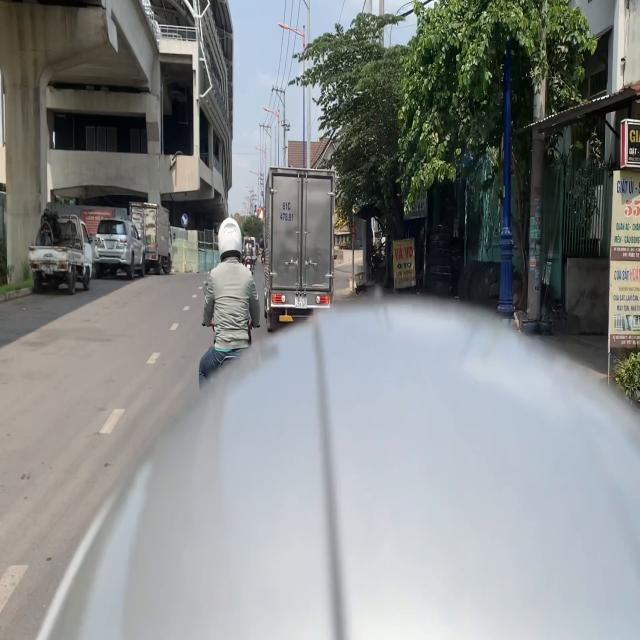Hieu lenh: (181, 213, 188, 227)
